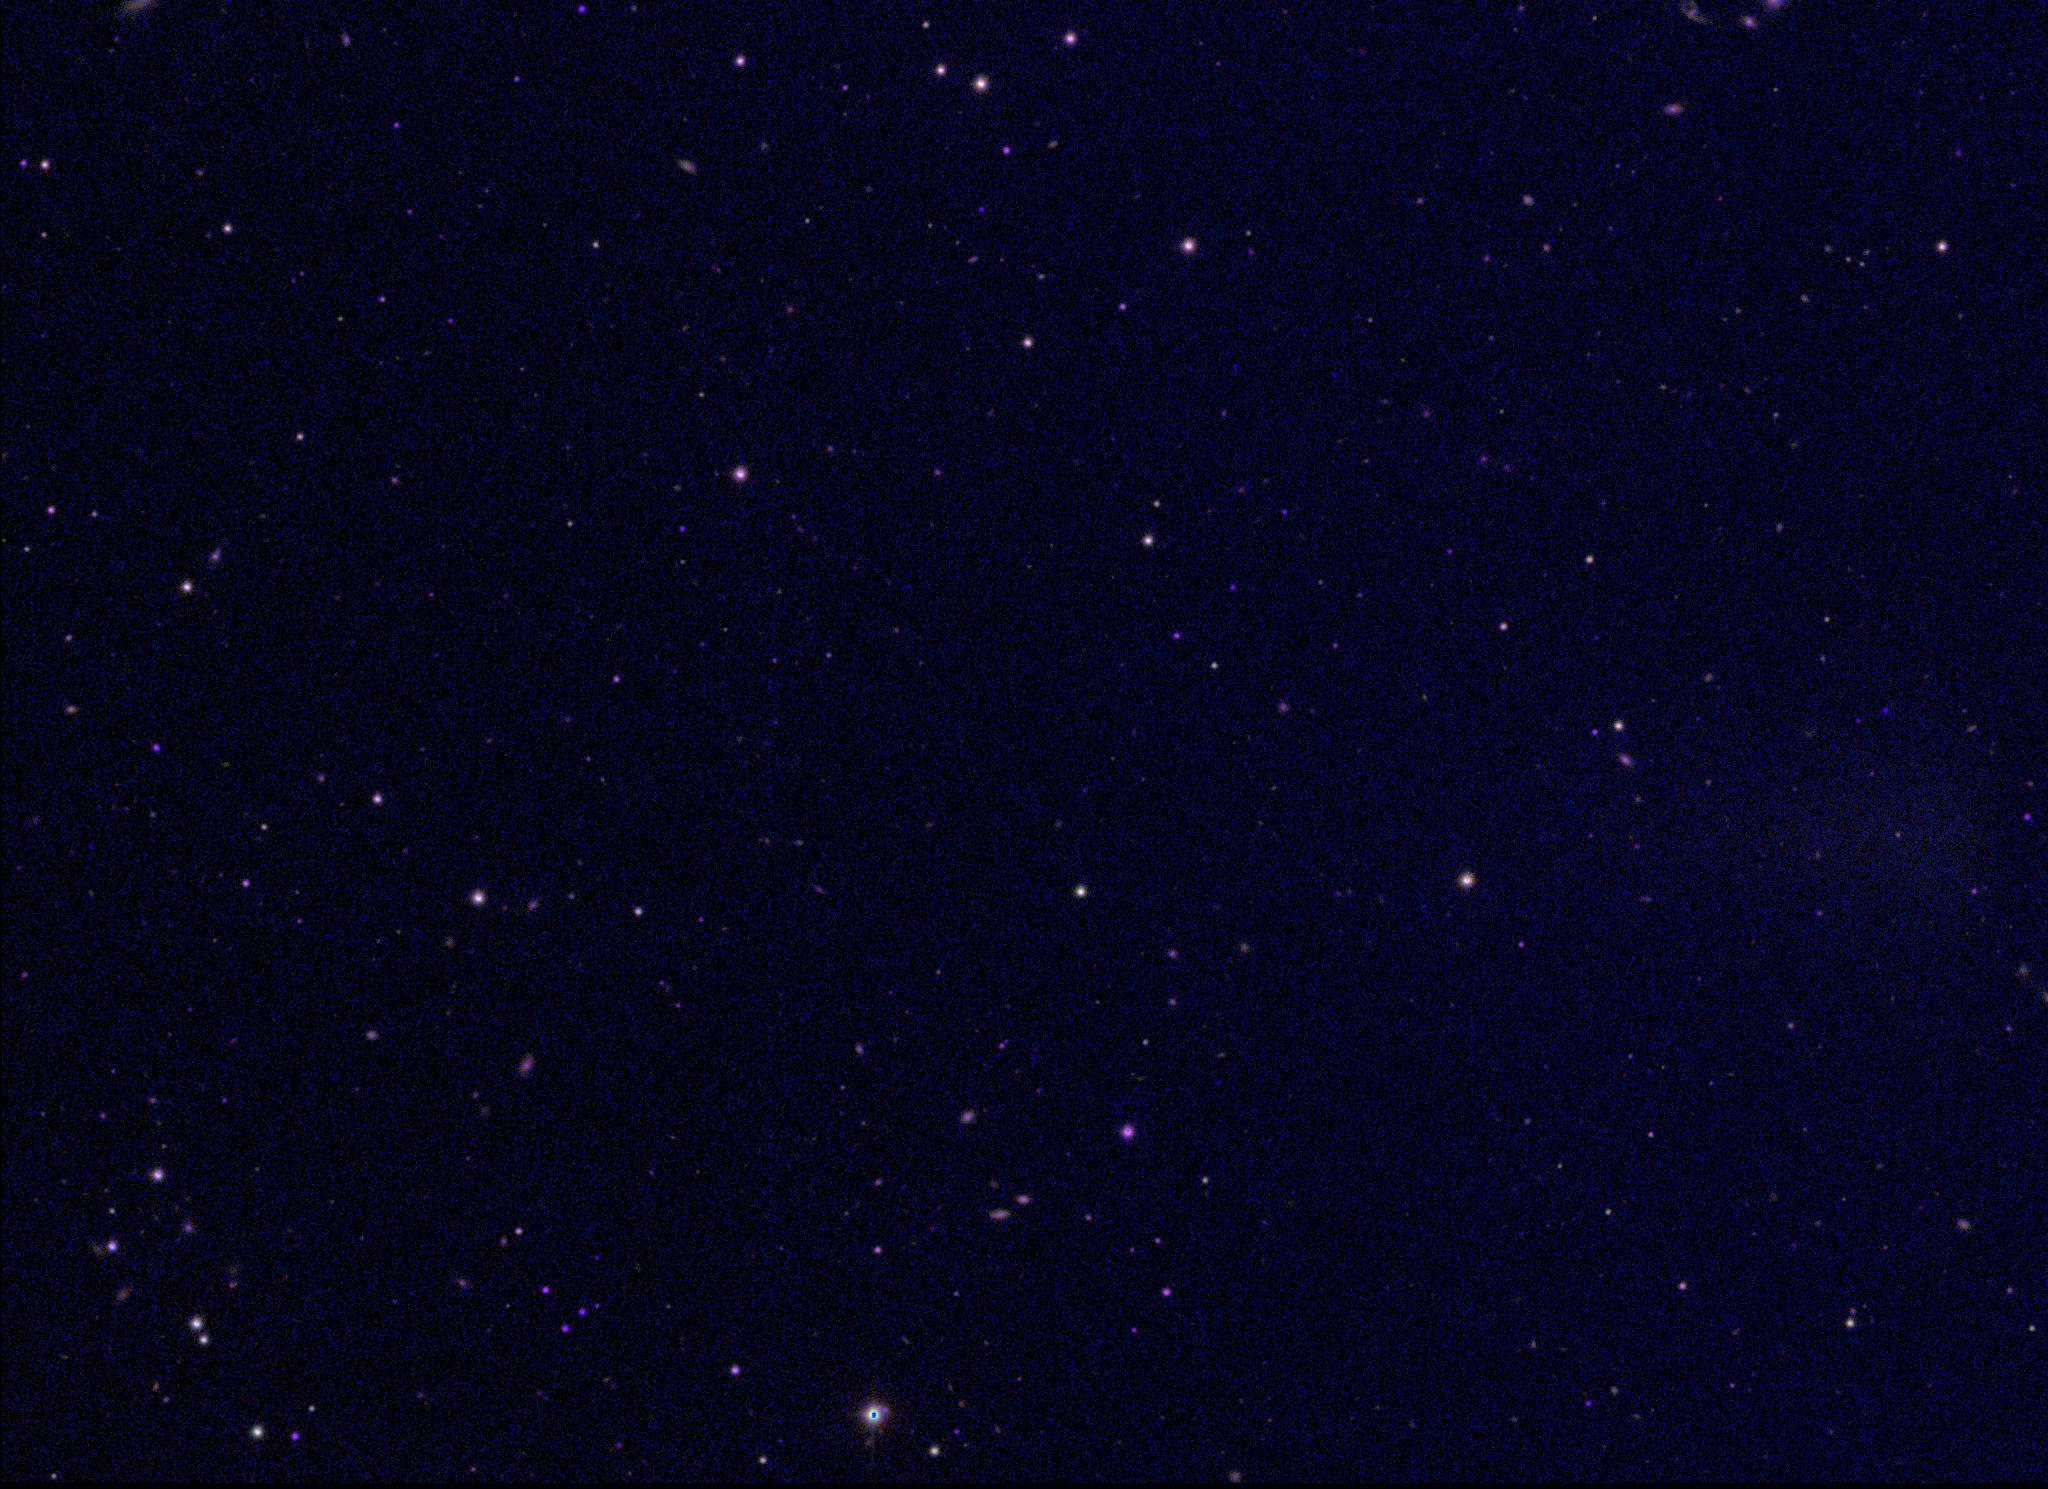L: (1879, 703, 1894, 717)
